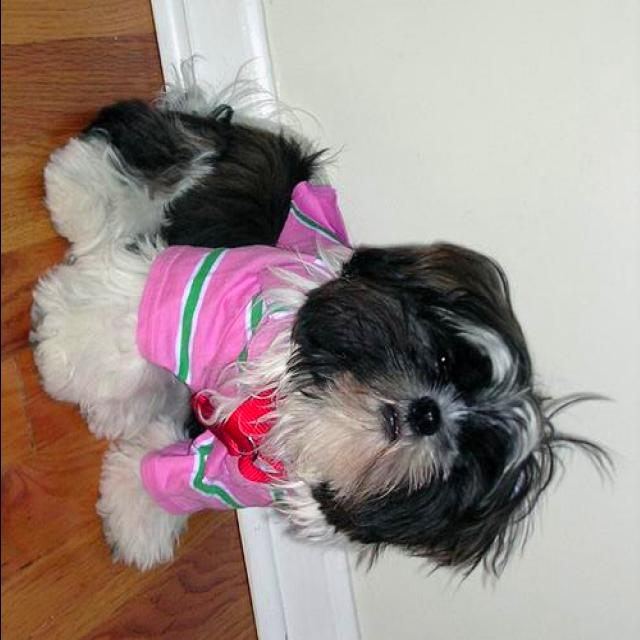shih_tzu: (25, 62, 618, 600)
